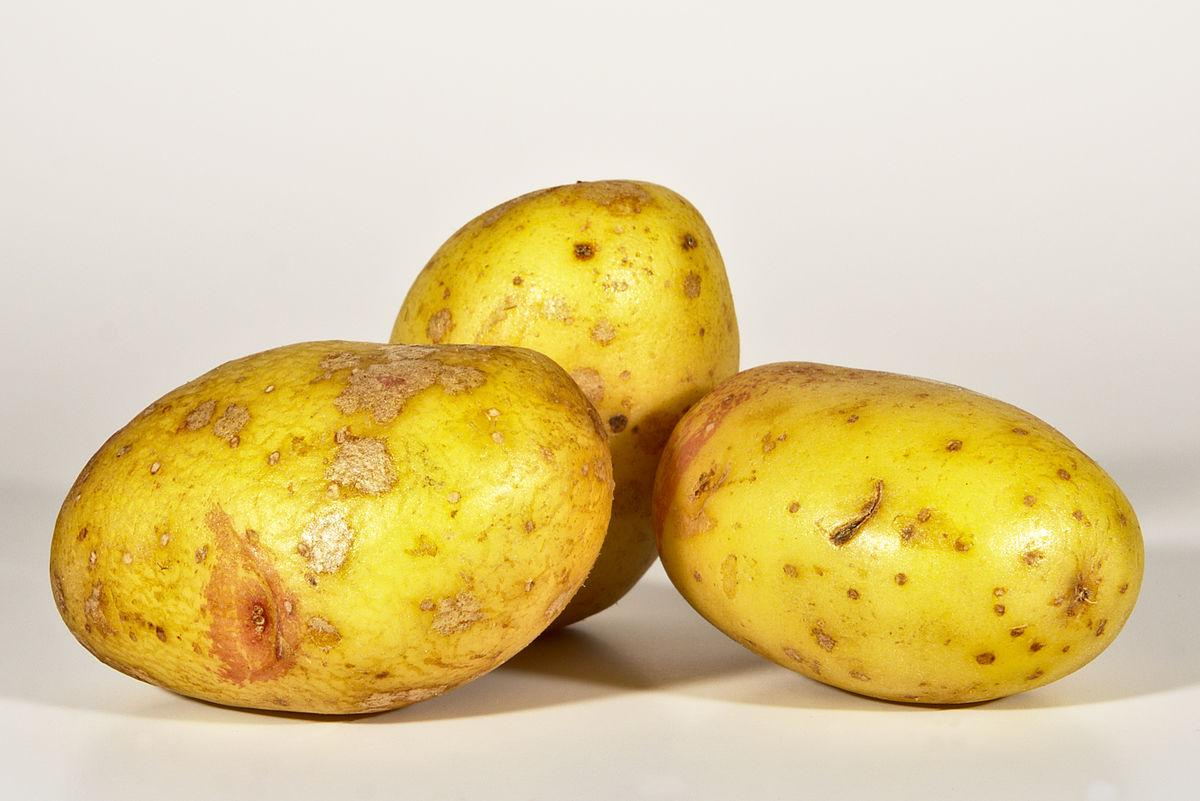potato: (651, 359, 1145, 706), (387, 177, 740, 630)
turnip: (48, 337, 615, 716)
